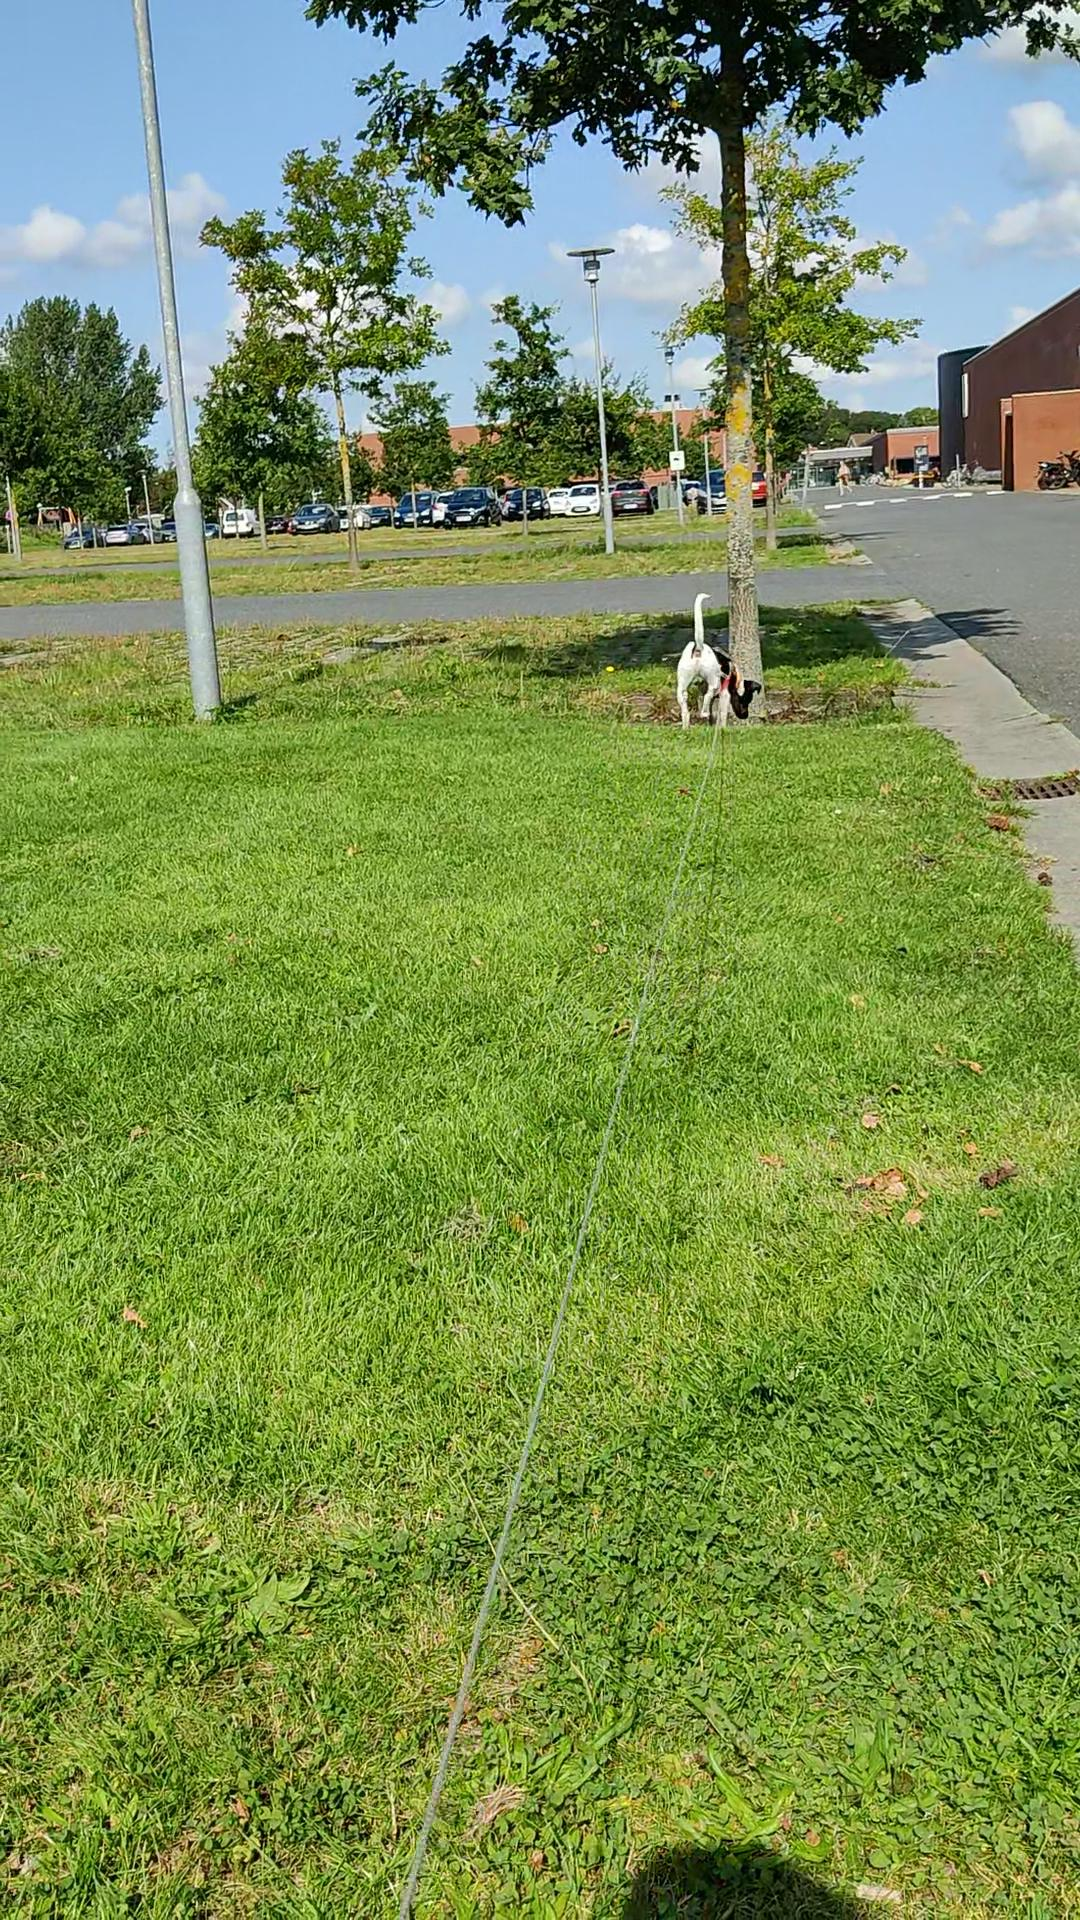Dog: (669, 588, 762, 731)
